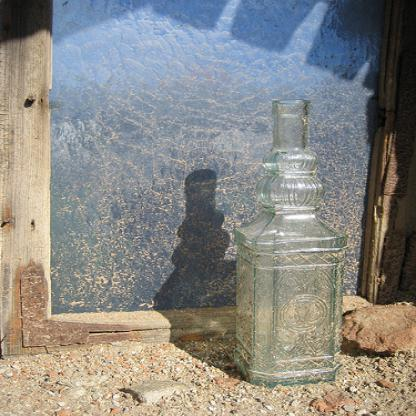bottle: (232, 99, 347, 385)
